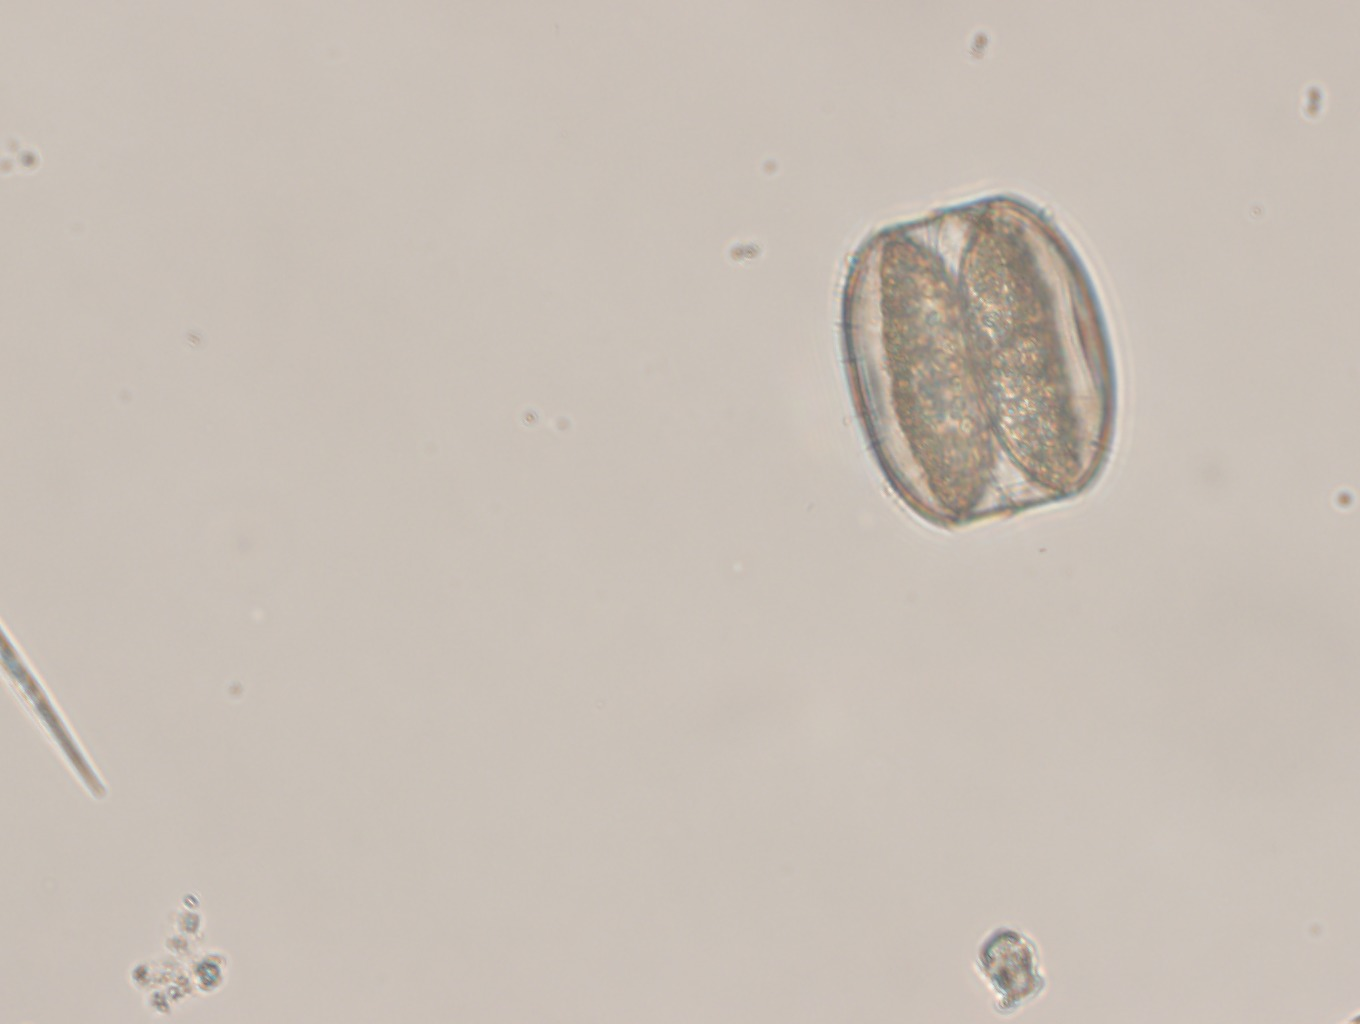coscinodiscus flank: (836, 191, 1119, 530)
